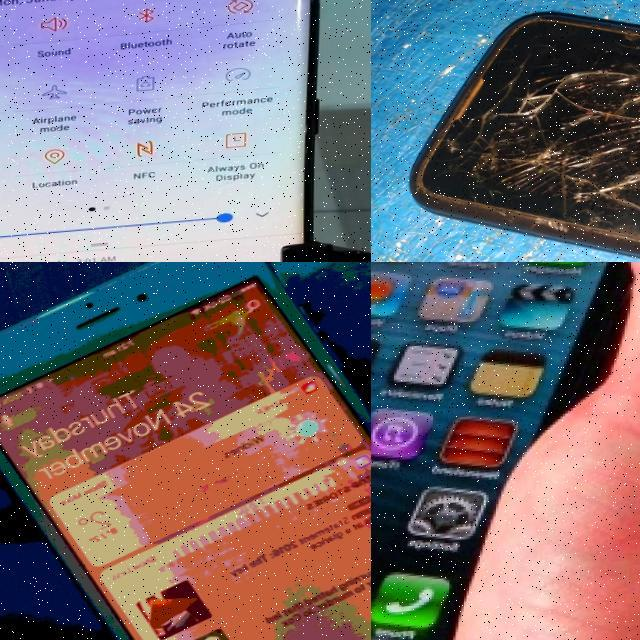screen crack: (438, 13, 640, 262)
